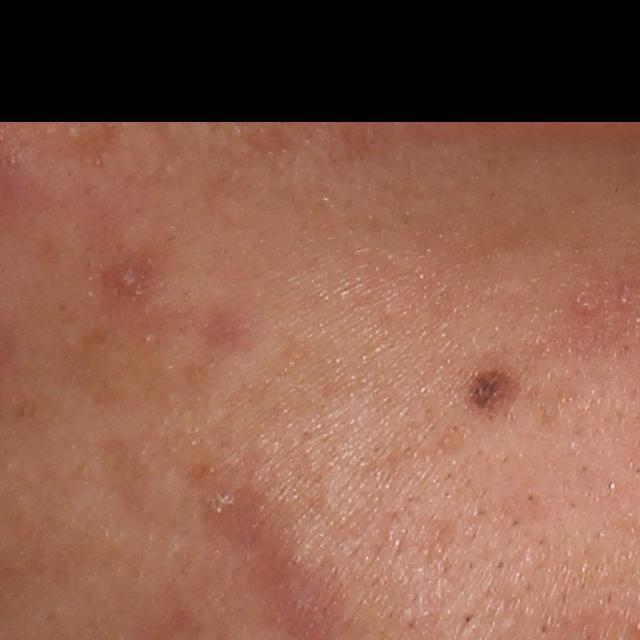nevus: (462, 361, 523, 414)
